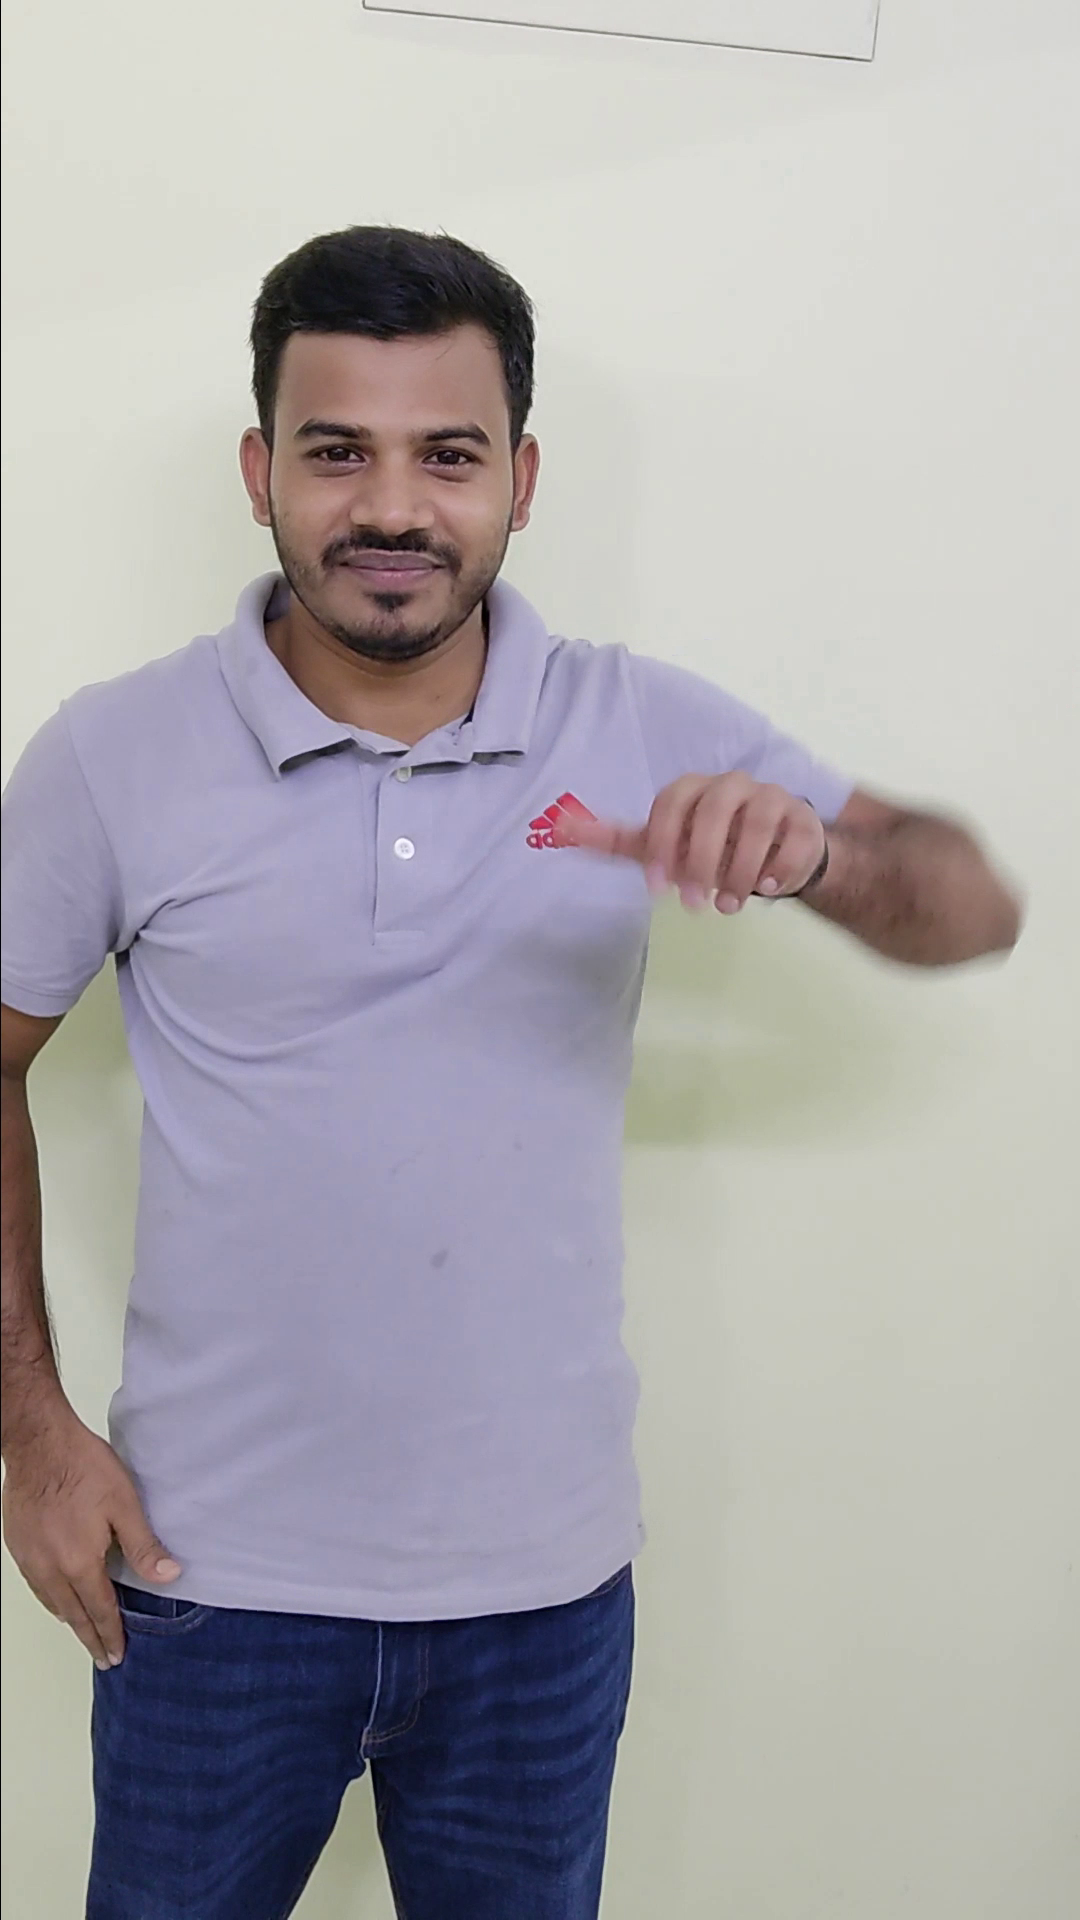Like: (537, 740, 862, 945)
None: (5, 1383, 199, 1673)
